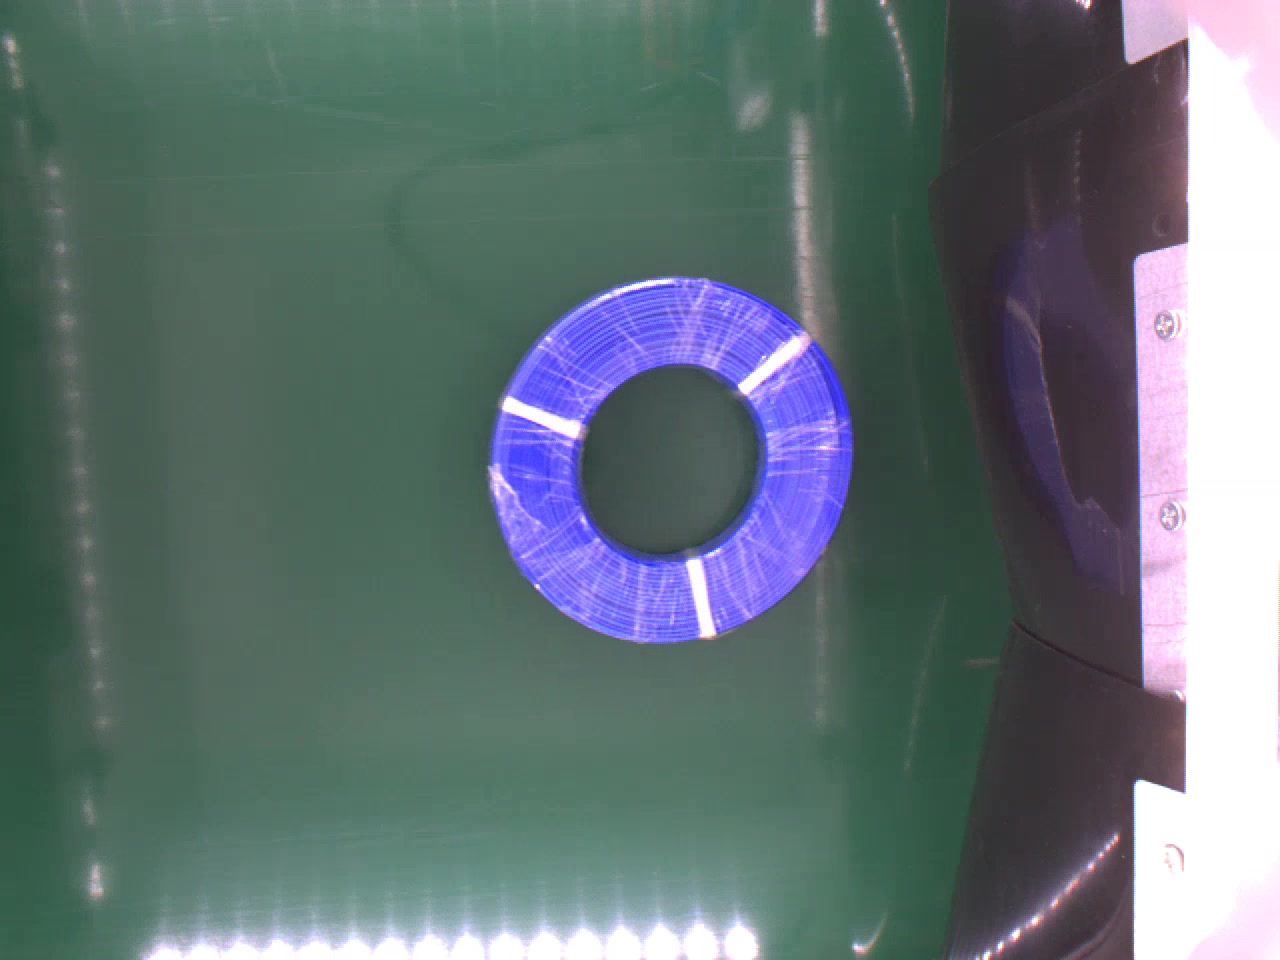blue: (476, 266, 870, 644)
